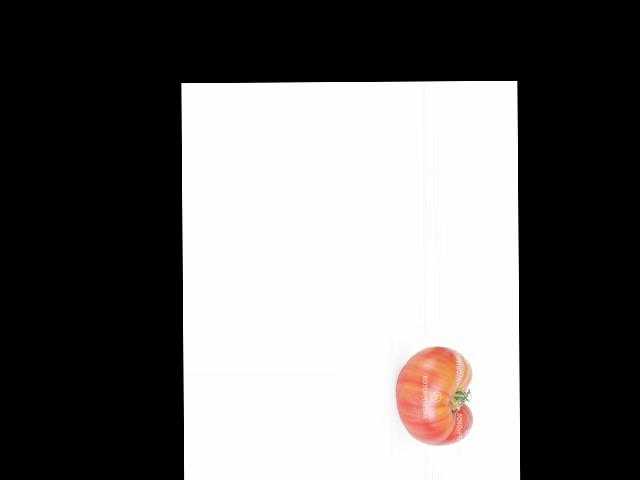tomato: (395, 345, 473, 445)
